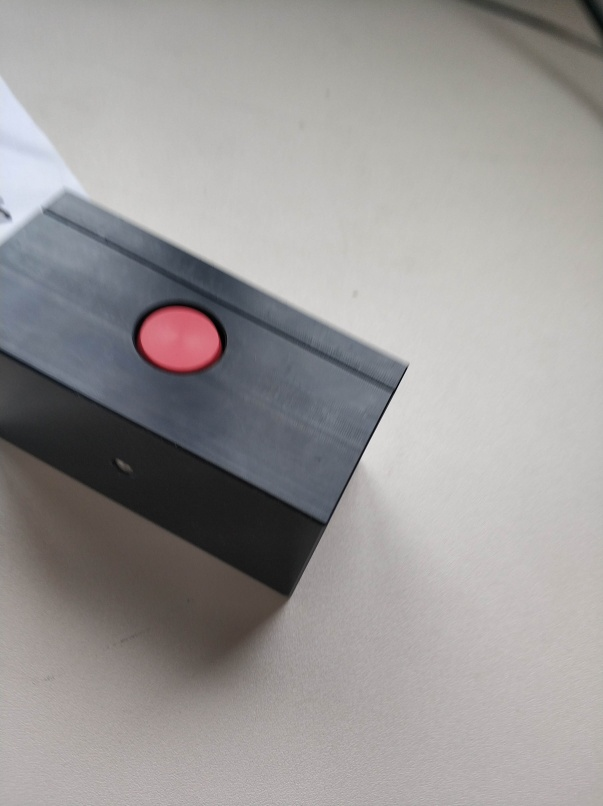black+black+red: (1, 179, 418, 610)
